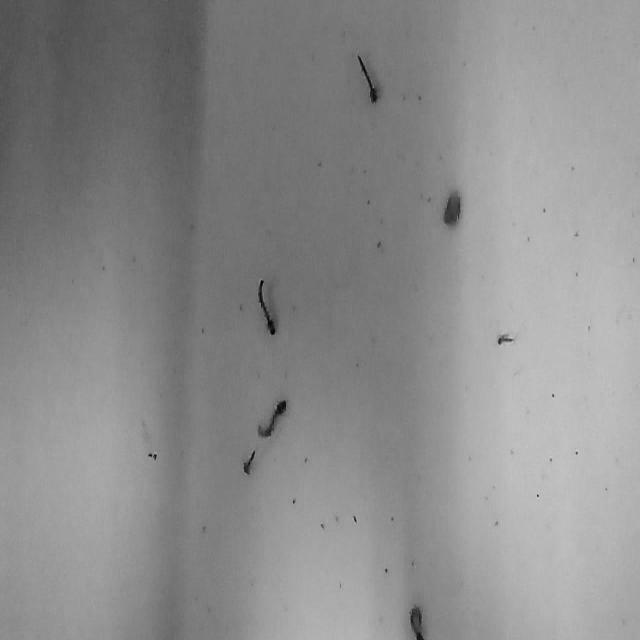larvas: (356, 50, 380, 105), (256, 278, 276, 335), (257, 399, 287, 437), (442, 189, 460, 227), (410, 604, 424, 640), (242, 449, 255, 475), (496, 332, 516, 344)
